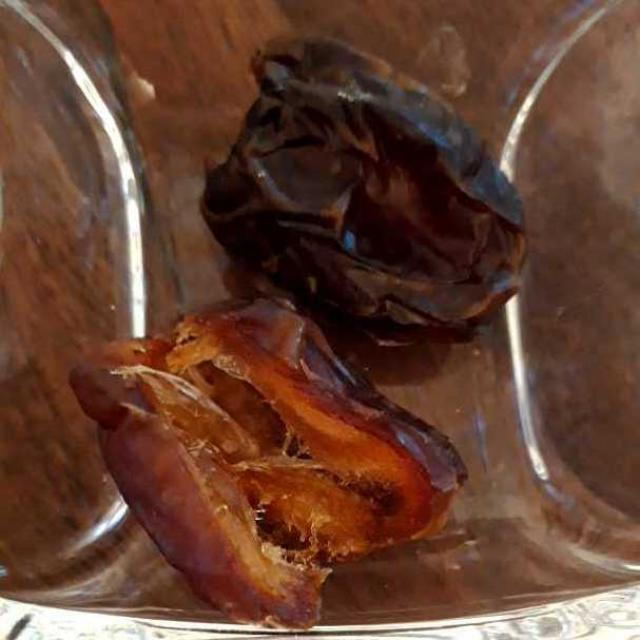dates: (76, 51, 550, 618)
